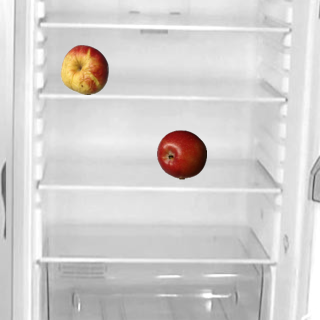Apple Braeburn: (156, 129, 206, 179)
Apple Red Yellow 1: (59, 44, 109, 94)
